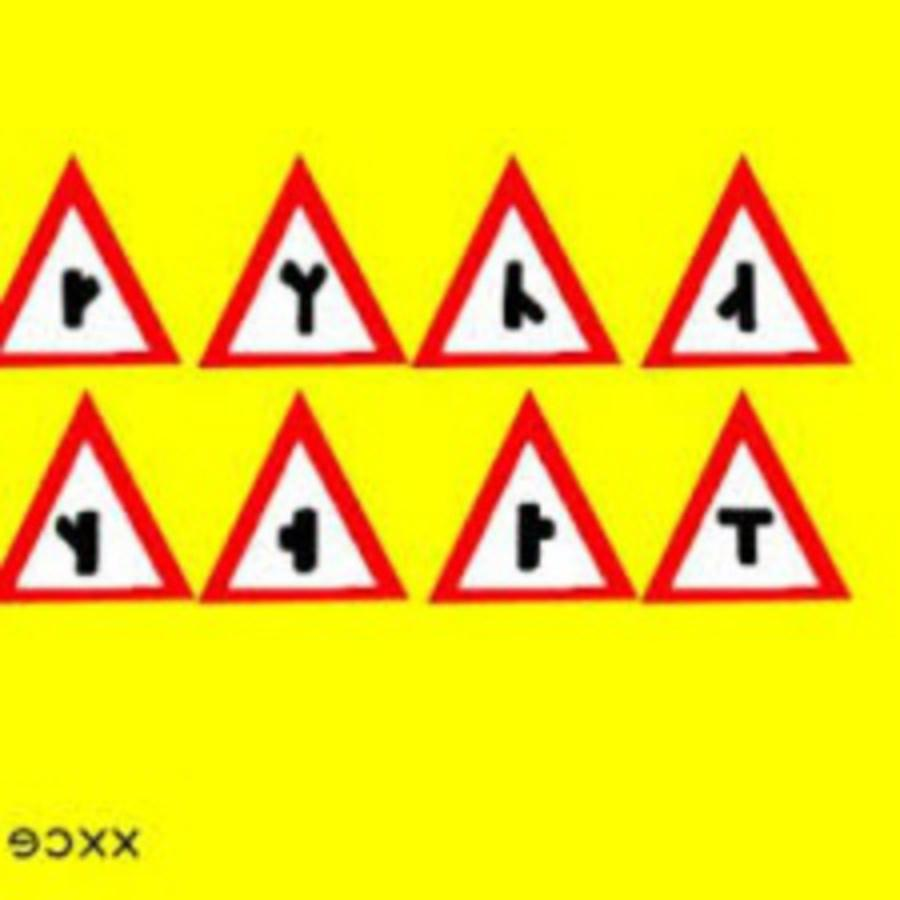fork_road: (416, 378, 643, 596), (199, 373, 413, 602), (417, 142, 628, 372), (207, 145, 418, 373), (650, 154, 859, 374), (650, 382, 849, 602), (7, 382, 193, 599), (11, 151, 191, 365)
